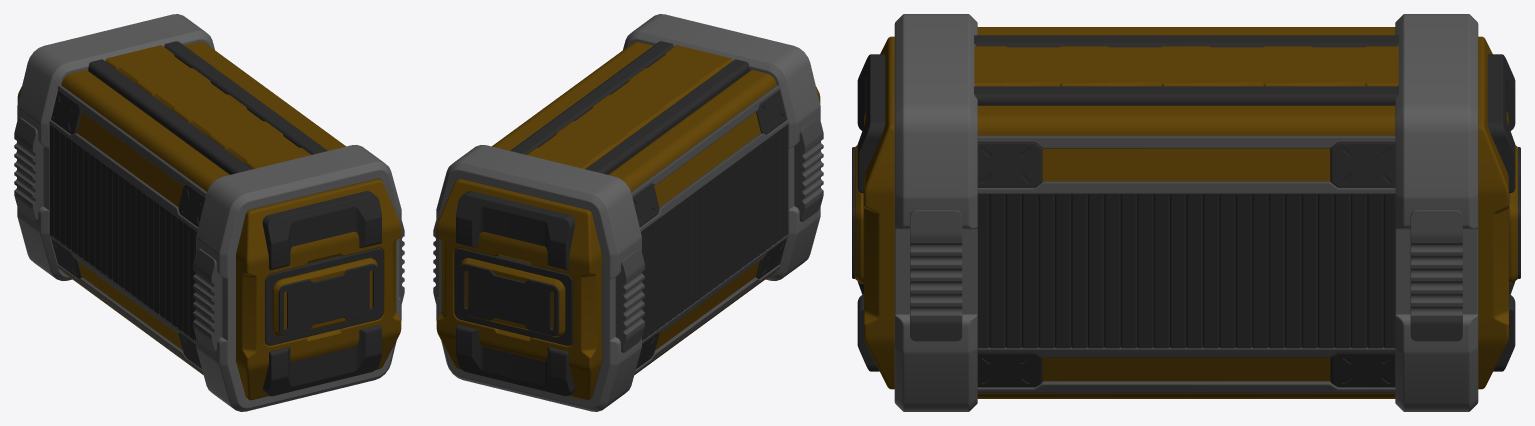
3 renders of one model, left to right at view 1: azimuth 30°, elevation 25°; view 2: azimuth 150°, elevation 25°; view 3: azimuth 270°, elevation 25°, orthographic. The views are drawn at different scales.
Visible parts, largest first — view 1: Sci-fi Container; view 2: Sci-fi Container; view 3: Sci-fi Container.
Boxes of the visible parts, x1=… form: Sci-fi Container: x1=14, y1=14, x2=404, y2=411; Sci-fi Container: x1=433, y1=14, x2=823, y2=411; Sci-fi Container: x1=852, y1=14, x2=1520, y2=411.
Bounding box in the file's own units: 201 × 217 × 430.
